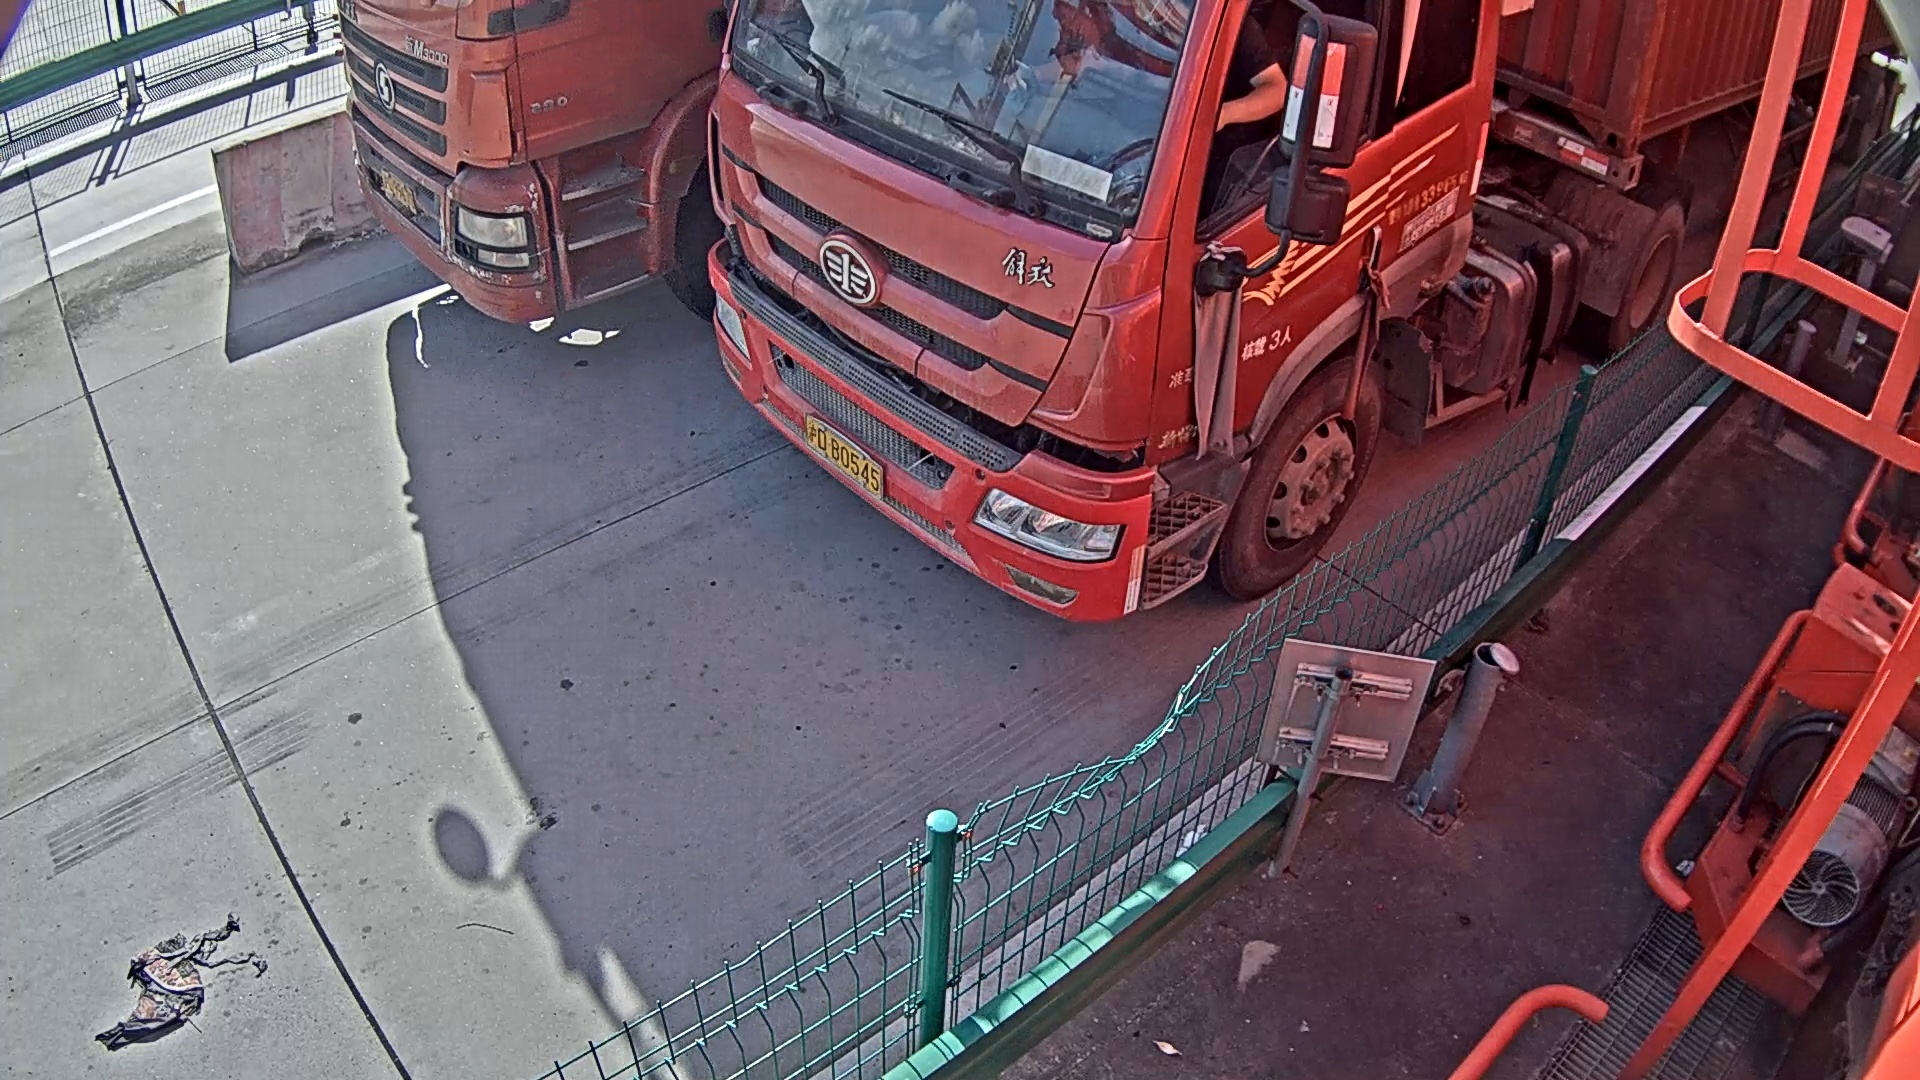head: (706, 1, 1498, 618)
plate: (801, 417, 886, 497)
